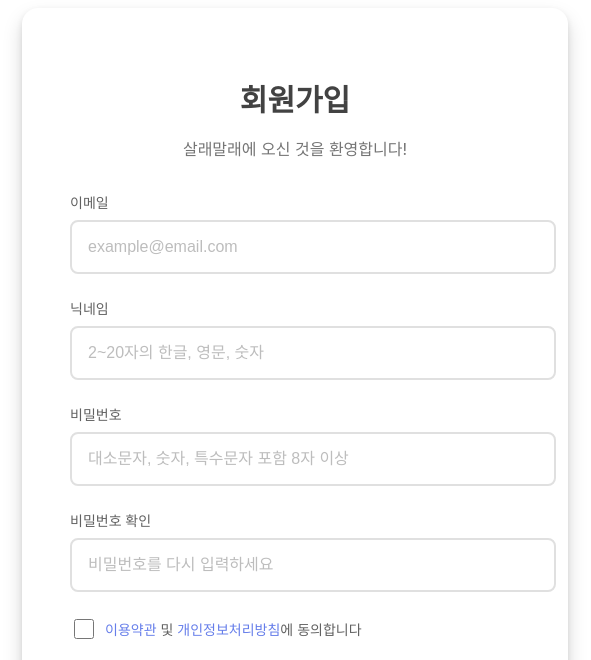
Test case: Validation Message Display › RegisterForm › 비밀번호 강도 요구사항을 실시간으로 표시해야 함
This screenshot has width=591, height=660.
# Type weak password
Type "weak" into the password field labelled "비밀번호" at (313,459), box x1=70 y1=432 x2=556 y2=486
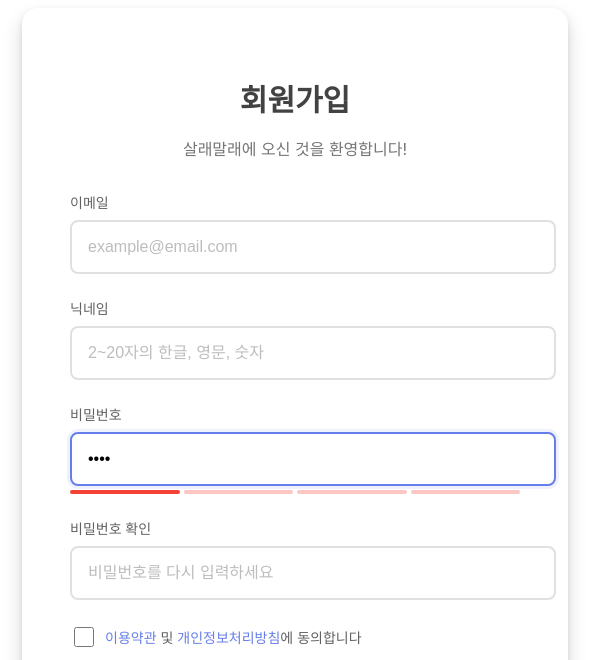
Leave the password field labelled "비밀번호", box x1=70 y1=432 x2=556 y2=486
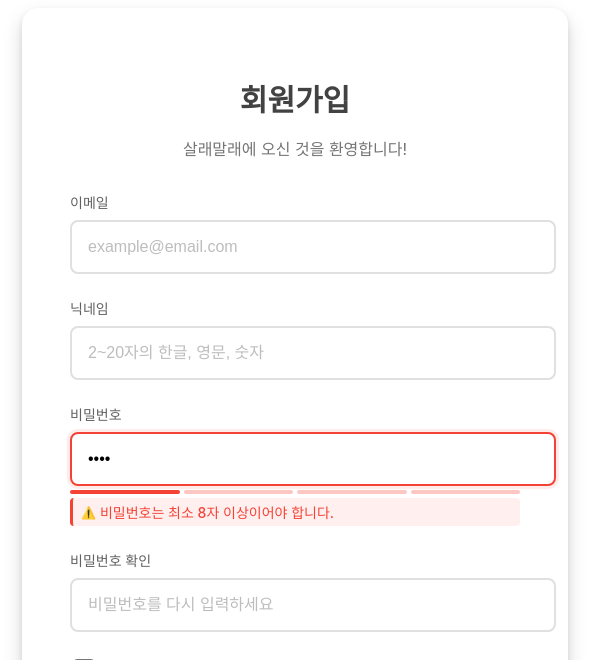
Expected: the message "비밀번호는 최소 8자 이상이어야 합니다." is shown, x1=70 y1=498 x2=520 y2=526
